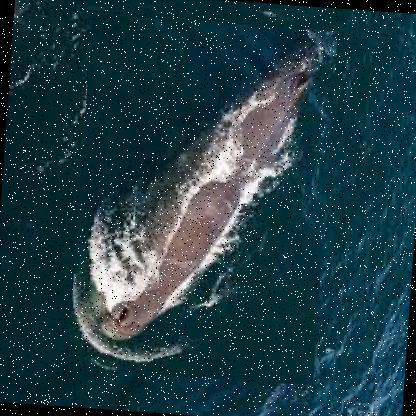sperm_whale: (66, 14, 336, 387)
